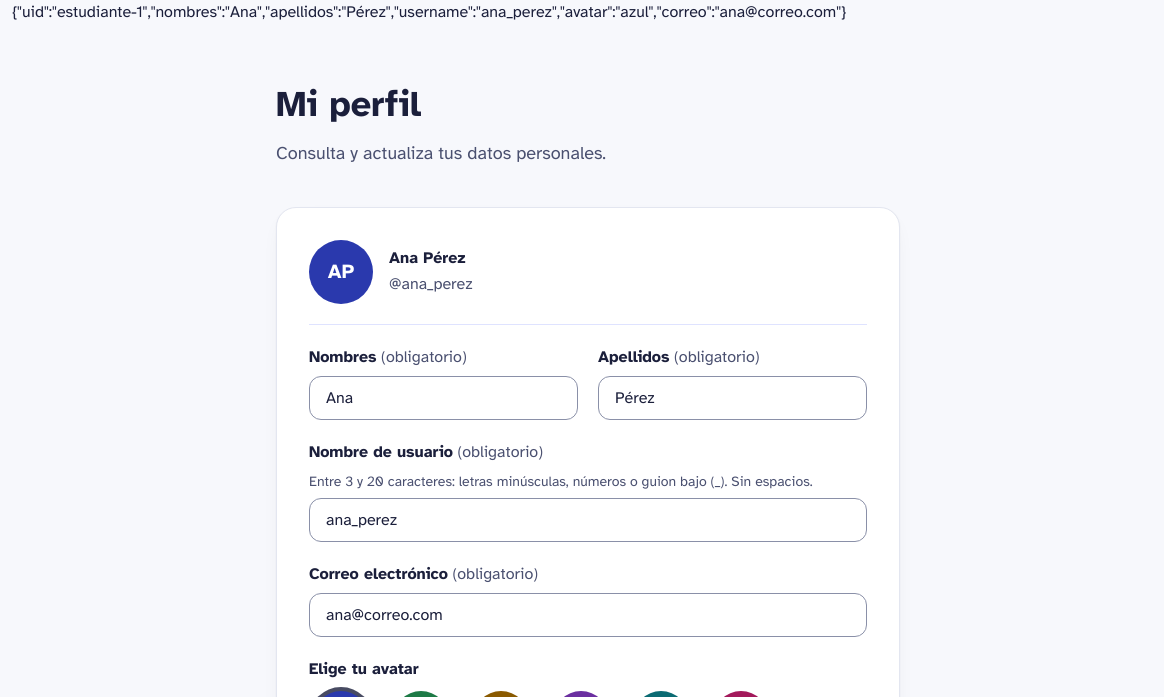
Scenario: Mi perfil › cancelar descarta todos los cambios sin realizar peticiones de escritura
Expected: the heading "Mi perfil" is shown, [276,82,421,126]
Replace the text in the field labelled "Nombres (obligatorio)" with "Mariana": (444, 398) [309,376,578,420]
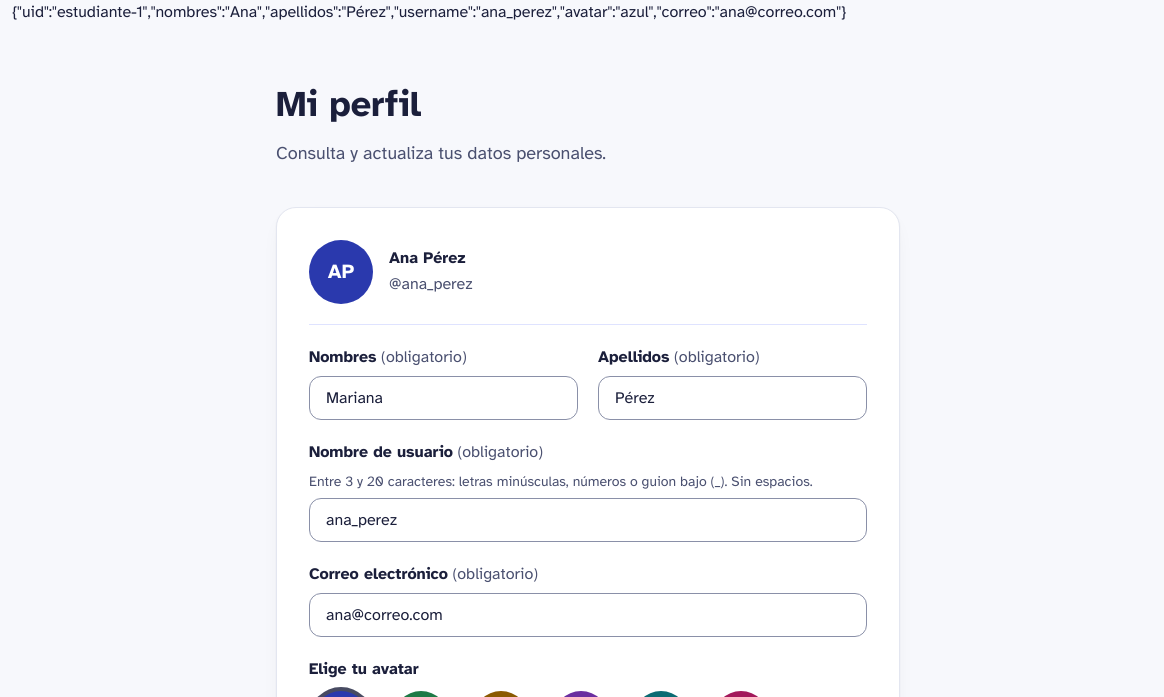
Replace the text in the field labelled "Apellidos (obligatorio)" with "Gómez": (732, 398) [598,376,867,420]
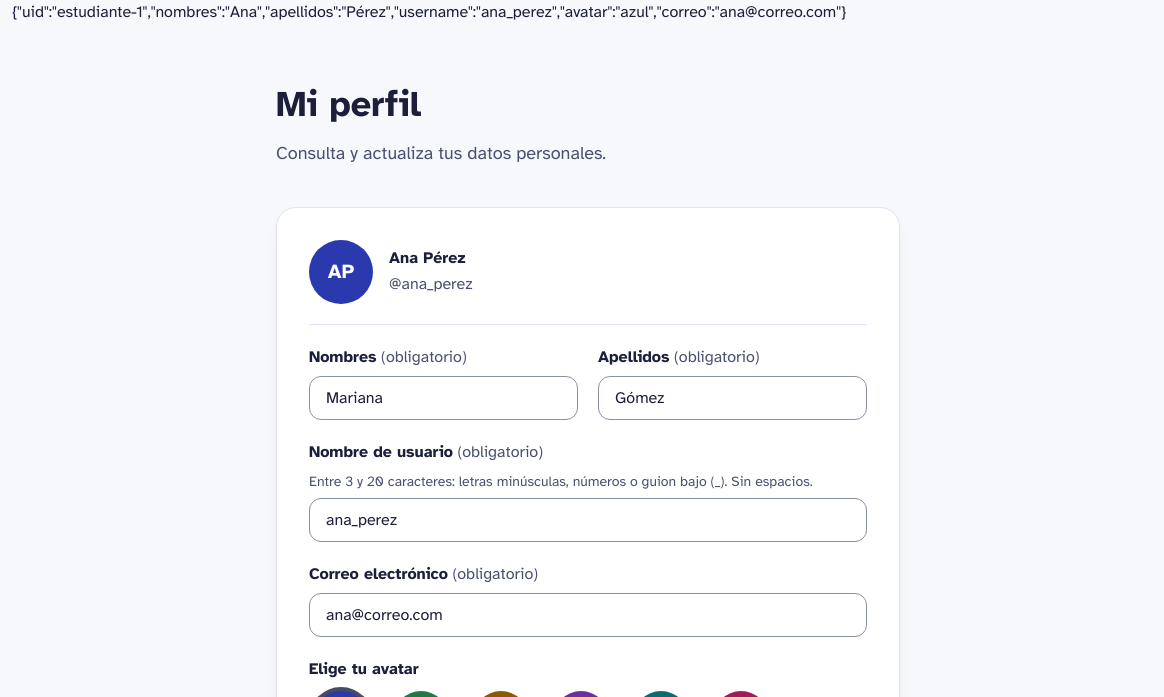
Replace the text in the field labelled "Nombre de usuario (obligatorio)" with "otra": (588, 520) [309,498,867,542]
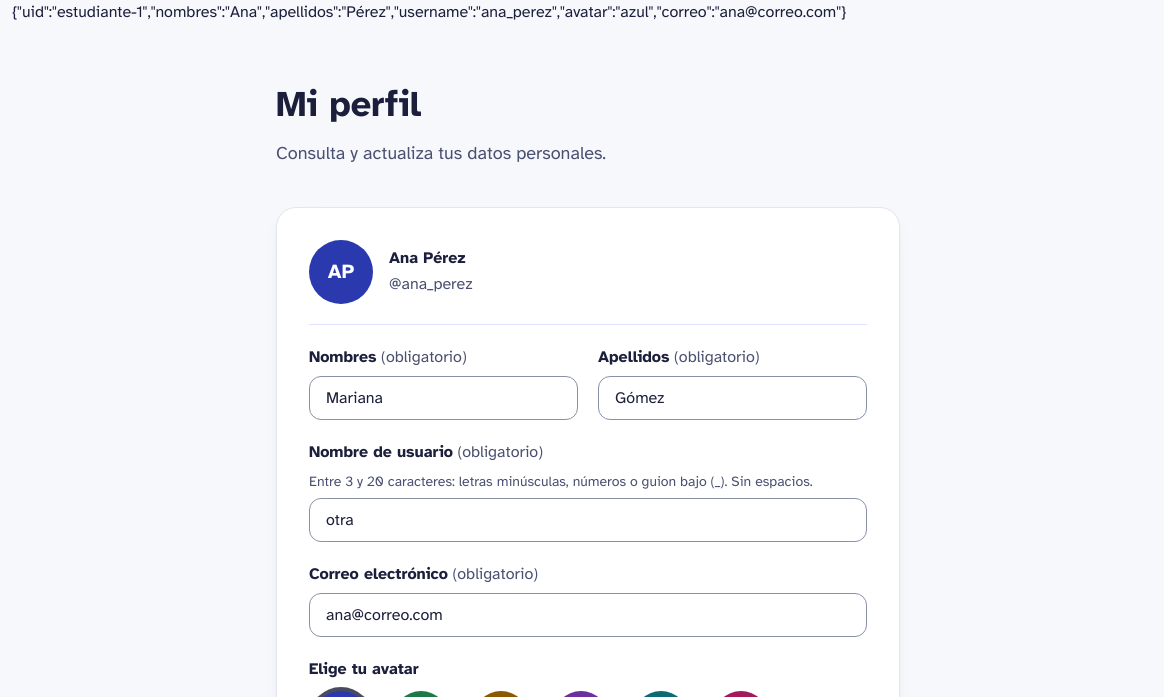
Replace the text in the field labelled "Correo electrónico (obligatorio)" with "otra@correo.com": (588, 615) [309,593,867,637]
(page scrolled)
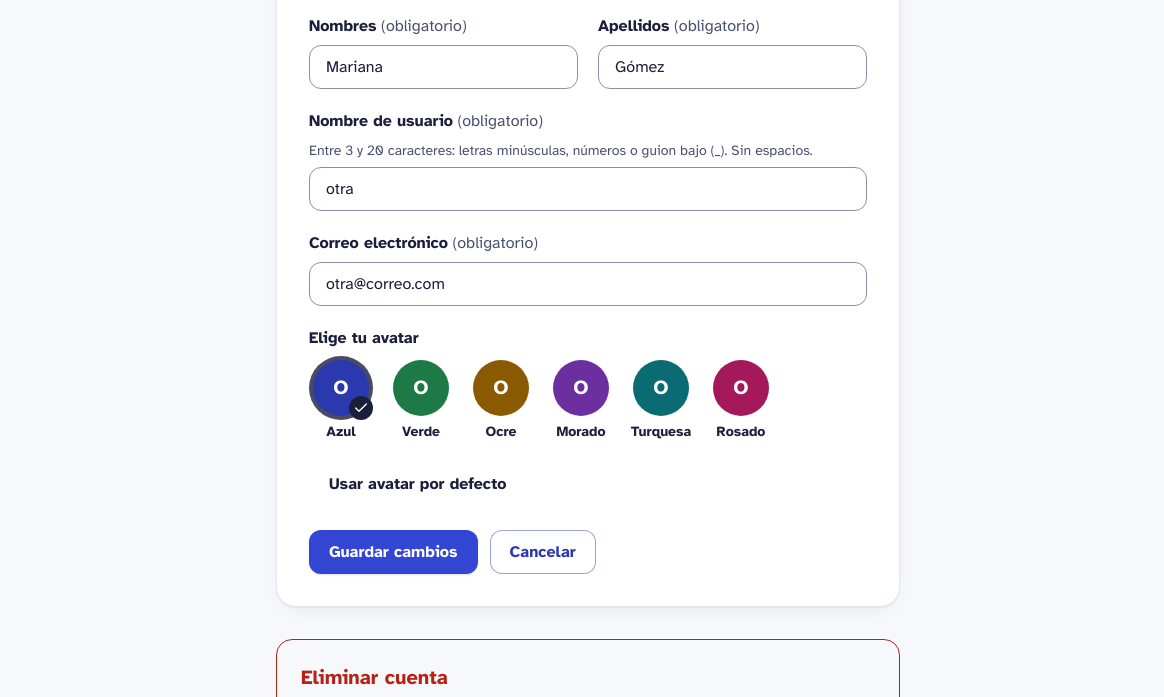
Click the radio button labelled "Verde": (421, 401) [389,360,453,442]
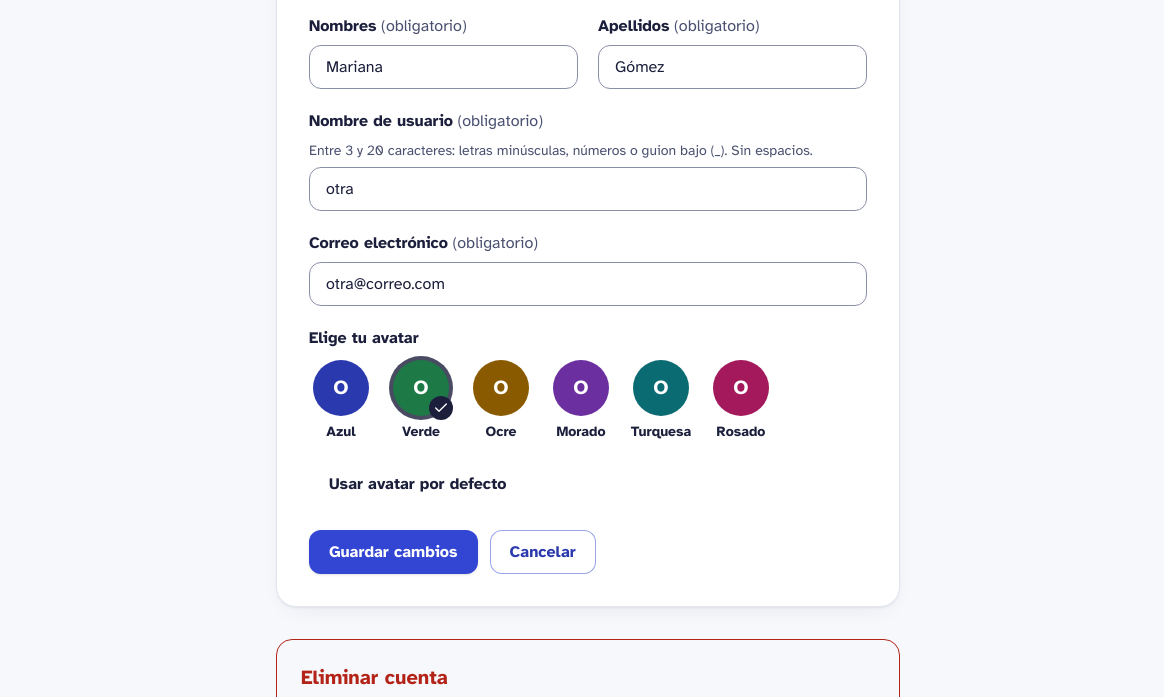
Click the button "Cancelar": (543, 552) [490,530,596,574]
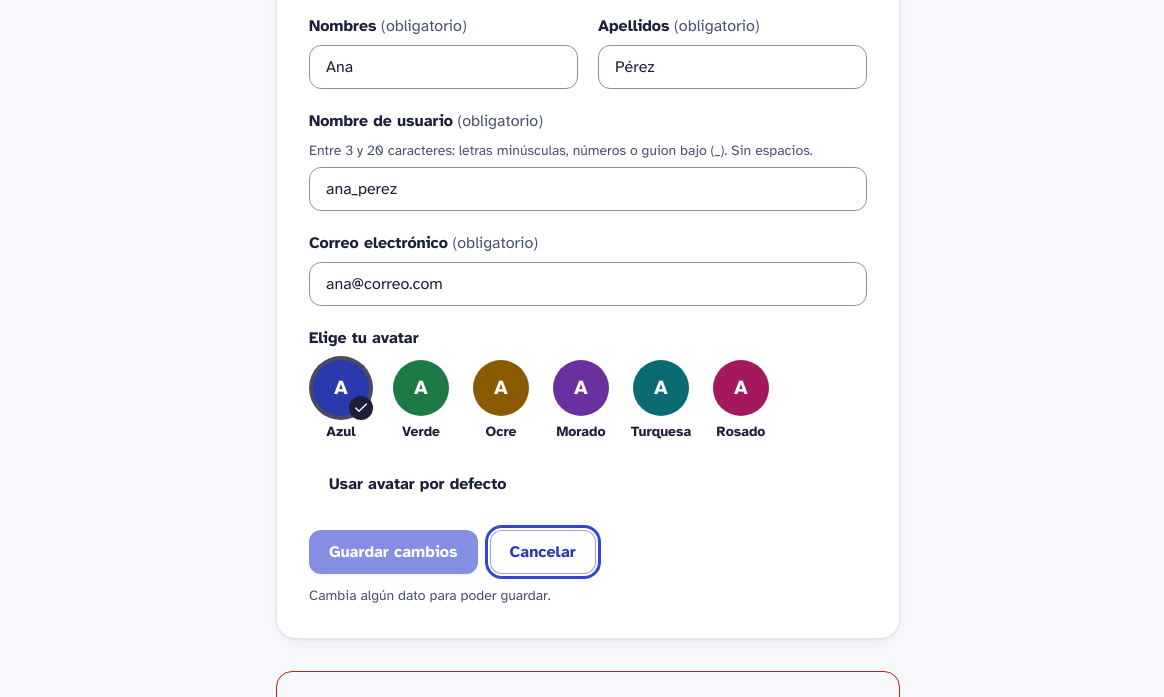
Expected: the radio button labelled "Azul" is checked, [309,360,373,442]
